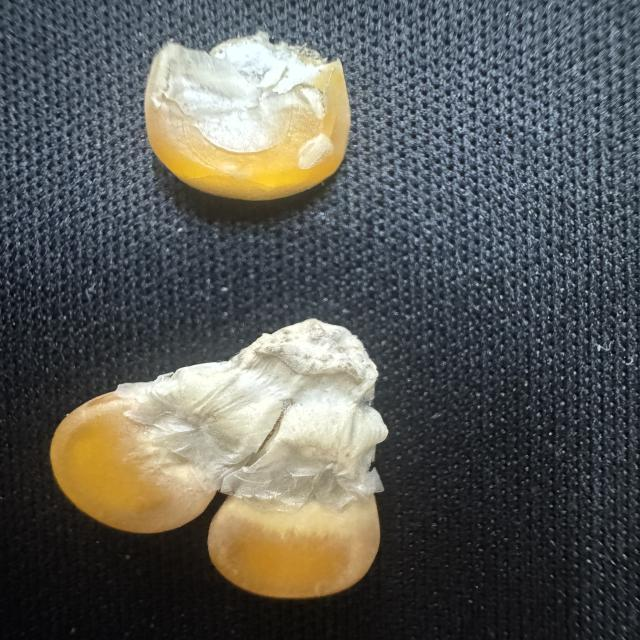Bad-Seed: (46, 312, 390, 602), (136, 26, 356, 202)
